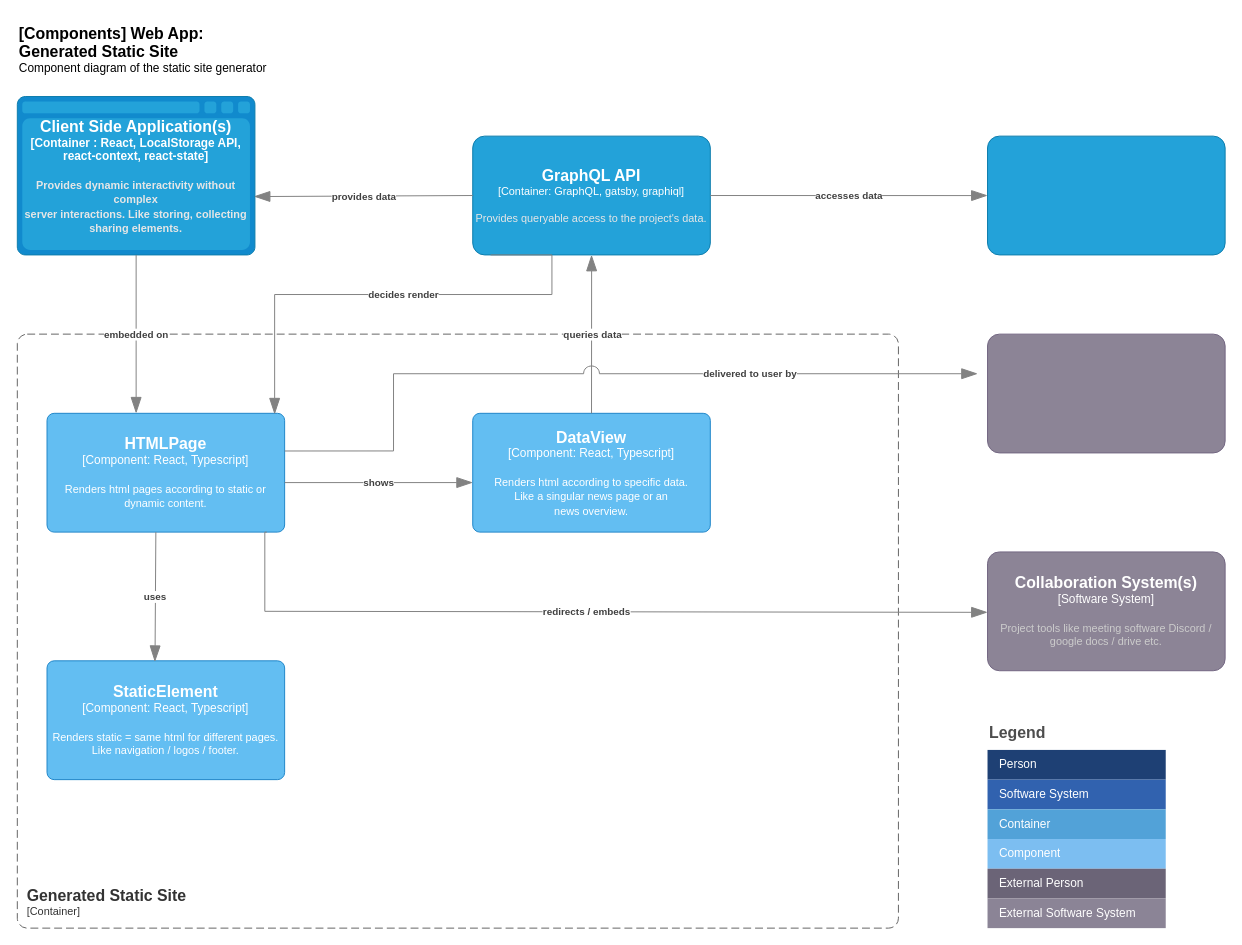
Some shapes in this 1242 by 945 pixel diagram are drawn without their labels. Here are the shapes that lost their labels. From the top down, the centre of each, then its label:
At (x=1106, y=195): "CMS [Container: Netlify CMS] Handles publication of content by moderators.".
At (x=1106, y=393): "Hosting System [Software System] Server, authentication etc.".
